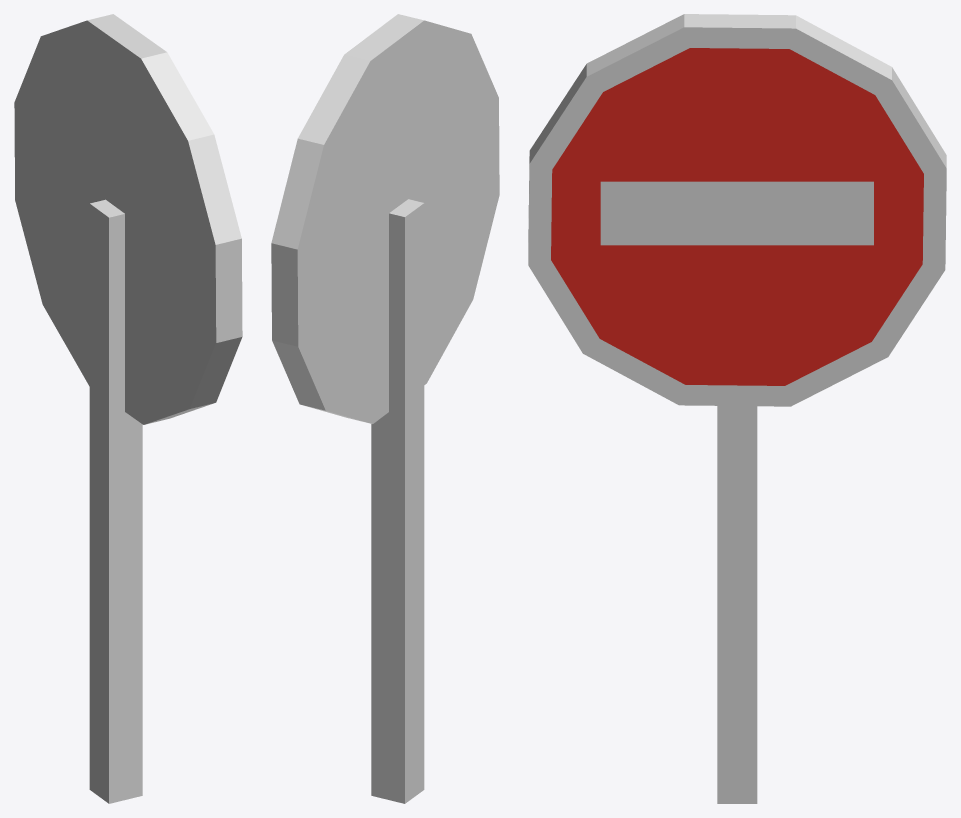
Rendered from signStop.fbx.
The picture shows the model from 3 angles, left to right: view 1: azimuth 30°, elevation 25°; view 2: azimuth 150°, elevation 25°; view 3: azimuth 270°, elevation 25°; orthographic projection. The views are drawn at different scales.
Visible parts, largest first — view 1: Sign, Stick; view 2: Sign, Stick; view 3: Sign, Stick.
Boxes of the visible parts, <box> form: Sign: <box>14,14,242,424</box>; Stick: <box>89,199,142,803</box>; Sign: <box>271,14,499,423</box>; Stick: <box>371,199,424,803</box>; Sign: <box>528,14,946,406</box>; Stick: <box>717,406,757,803</box>.
Bounding box in the file's own units: 39.55 × 674 × 327.
